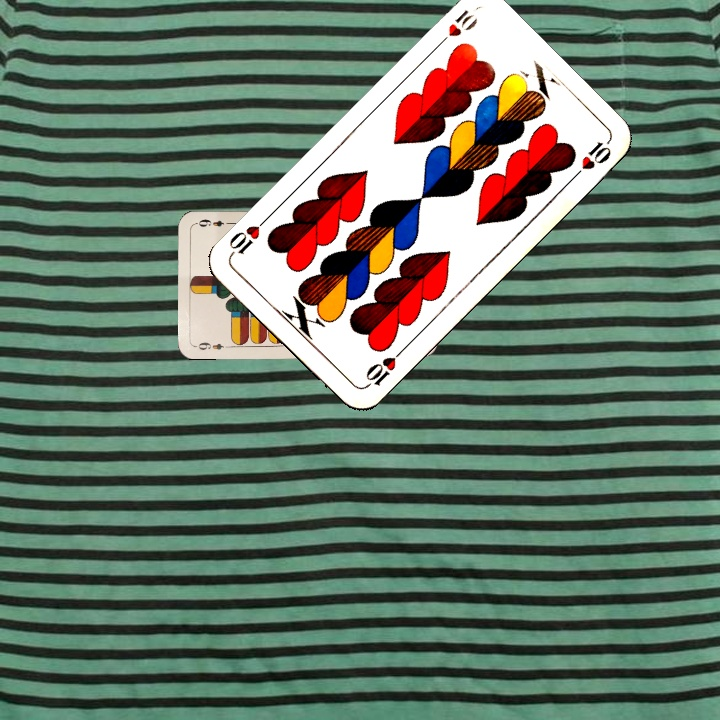E9: (193, 338, 233, 352)
H10: (431, 5, 480, 51), (360, 344, 407, 391)
